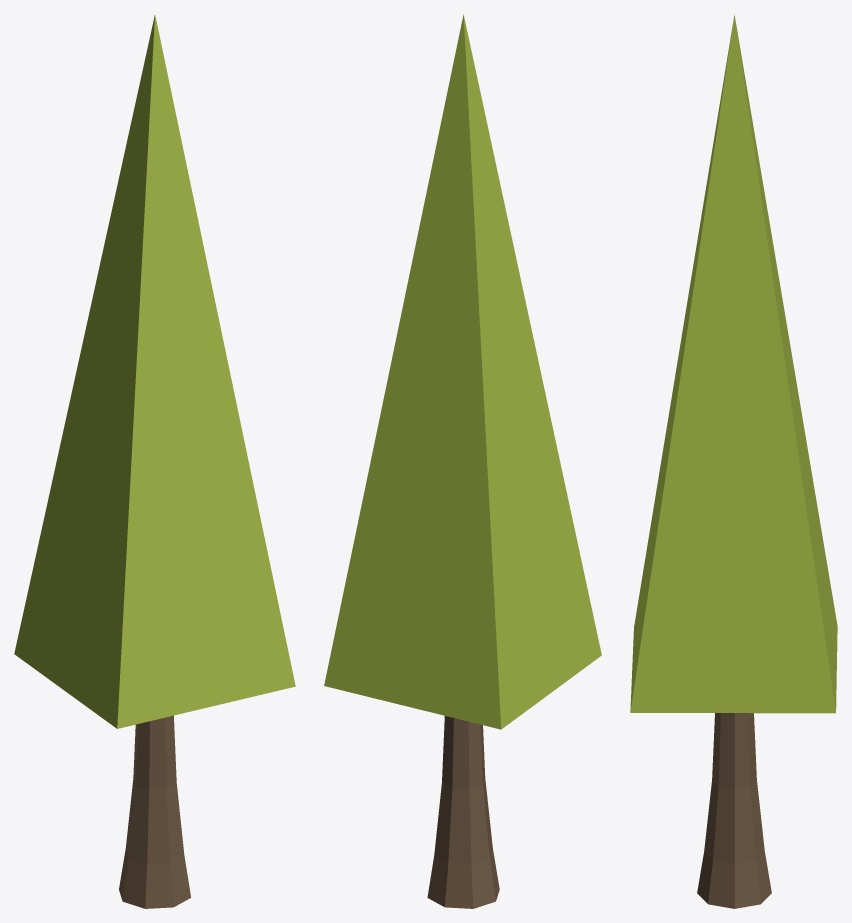
File: NHP_Tree_LP_E1_6m_01.fbx
3 renders of one model, left to right at view 1: azimuth 30°, elevation 25°; view 2: azimuth 150°, elevation 25°; view 3: azimuth 270°, elevation 25°, orthographic.
Visible parts, largest first — view 1: NHP_Tree_LP_E1_6m_01; view 2: NHP_Tree_LP_E1_6m_01; view 3: NHP_Tree_LP_E1_6m_01.
Boxes of the visible parts, box(x1,y1,x2,y2) form: NHP_Tree_LP_E1_6m_01: box(14, 15, 295, 908); NHP_Tree_LP_E1_6m_01: box(324, 14, 601, 908); NHP_Tree_LP_E1_6m_01: box(630, 14, 837, 908).
Size of the model in its own units: 1.33 by 6.28 by 1.34.
